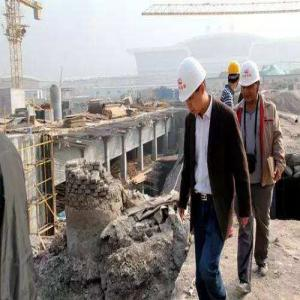white: (178, 57, 210, 117), (240, 60, 261, 104)
yellow: (227, 61, 242, 90)
